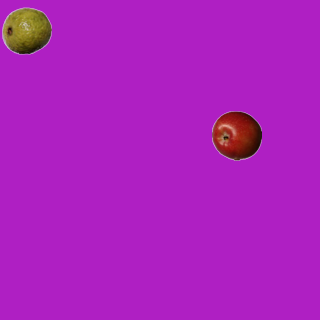Apple Braeburn: (211, 110, 261, 160)
Guava: (1, 5, 51, 55)
